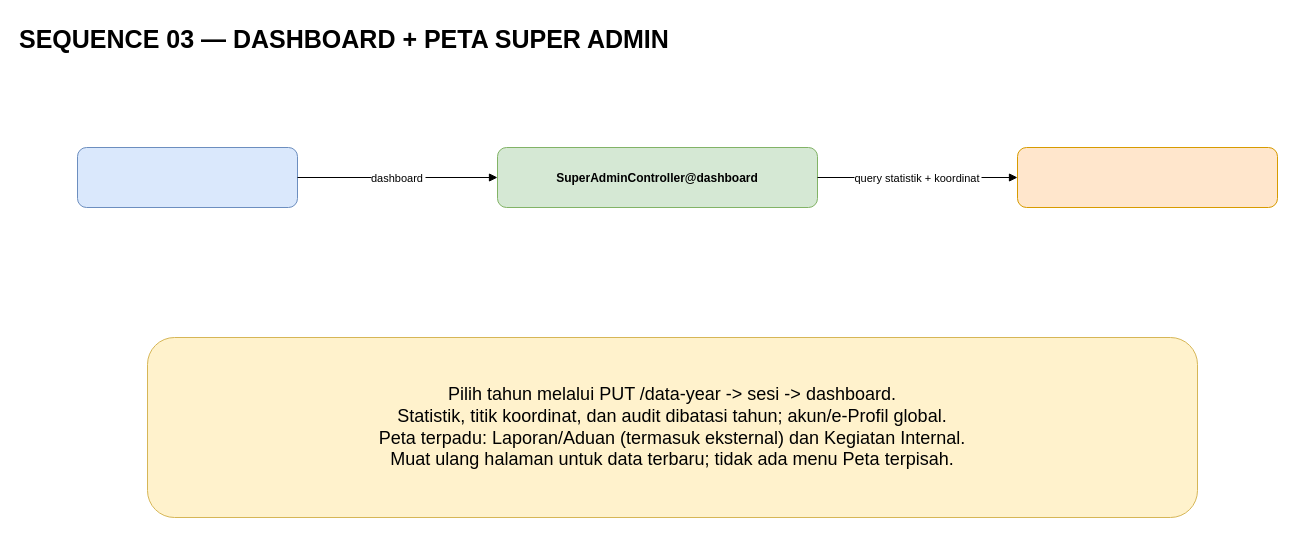
The diagram is 1295 pixels wide and 535 high, and some of its shapes have lost their labels. Here are the shapes that lost their labels. From the top down, the box of each, then its label:
(76, 146, 298, 208): Super Admin
(1016, 146, 1278, 208): Reports + Activities
